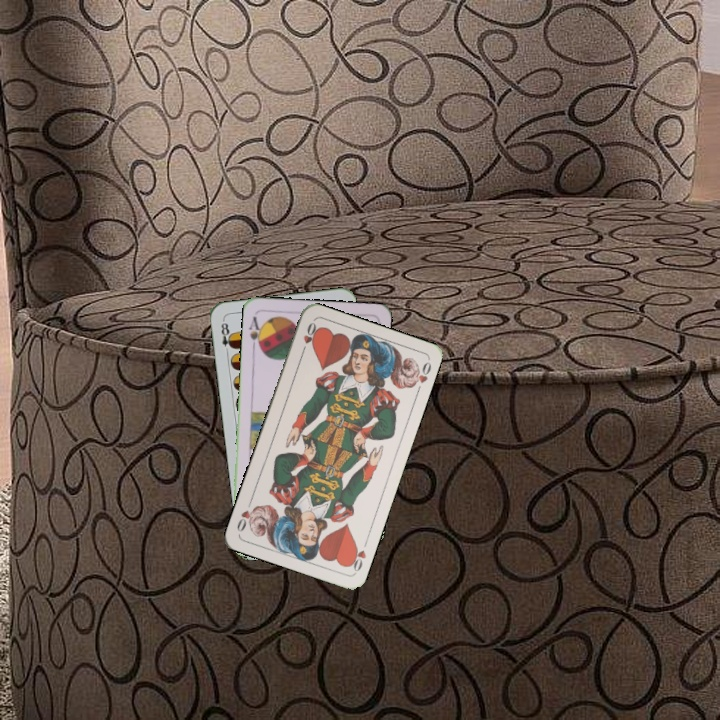E8: (217, 316, 236, 357)
HO: (297, 318, 320, 357), (345, 541, 369, 574)
SA: (245, 312, 265, 352)
